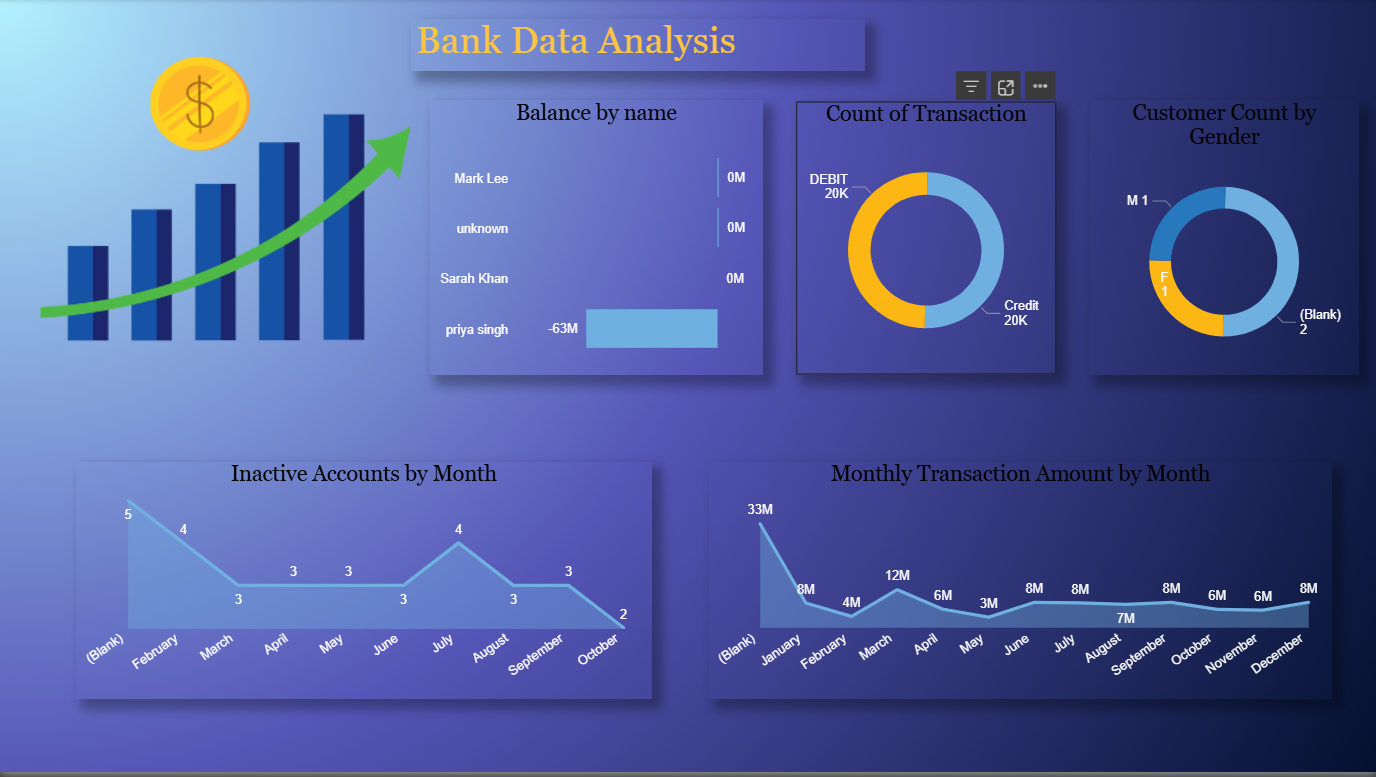

The dashboard page shown, as its layout file describes it:
{"tool":"powerbi","page":{"name":"Baking data P-1","canvas":[1280,720],"ordinal":0},"visuals":[{"type":"donutChart","title":"Count of Transaction","fields":{"Category":["Combinedbankingdataset.transactiontype"],"Y":["Measures table.Count of Transaction"]},"box":[740.1,95.3,241.9,254.7],"z":0},{"type":"areaChart","fields":{"Category":["Combinedbankingdataset.transactiondate.Variation.Date Hierarchy.Month"],"Y":["Measures table.Monthly Transaction Amount"]},"box":[659.3,430.2,580.2,220.9],"z":1000},{"type":"areaChart","fields":{"Category":["Combinedbankingdataset.transactiondate.Variation.Date Hierarchy.Month"],"Y":["Measures table.Inactive Accounts"]},"box":[70.9,430.2,534.9,220.9],"z":3000},{"type":"donutChart","title":"Customer Count by Gender","fields":{"Y":["Measures table.\"Customer Count by Gender"],"Category":["Combinedbankingdataset.gender"]},"box":[1014,94.2,250,255.8],"z":4000},{"type":"textbox","title":"Bank Data Analysis","box":[382.6,18.6,422.1,48.8],"z":5000},{"type":"clusteredBarChart","title":"Balance by name","fields":{"Category":["Combinedbankingdataset.name"],"Y":["Measures table.Total Balance"]},"box":[400,94.2,309.3,255.8],"z":6000}]}

Visuals, with their boxes in screenshot pixels (x1, y1, x2, y2), scaled from the page's 1280x720 canvas onto the 1376x777 screenshot:
"Count of Transaction" donutChart: 796 103 1056 378
areaChart - Combinedbankingdataset.transactiondate.Variation.Date Hierarchy.Month x Measures table.Monthly Transaction Amount: 709 464 1332 703
areaChart - Combinedbankingdataset.transactiondate.Variation.Date Hierarchy.Month x Measures table.Inactive Accounts: 76 464 651 703
"Customer Count by Gender" donutChart: 1090 102 1359 378
"Bank Data Analysis" textbox: 411 20 865 73
"Balance by name" clusteredBarChart: 430 102 762 378
